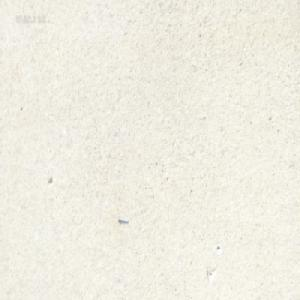Nail: (117, 215, 128, 223)
